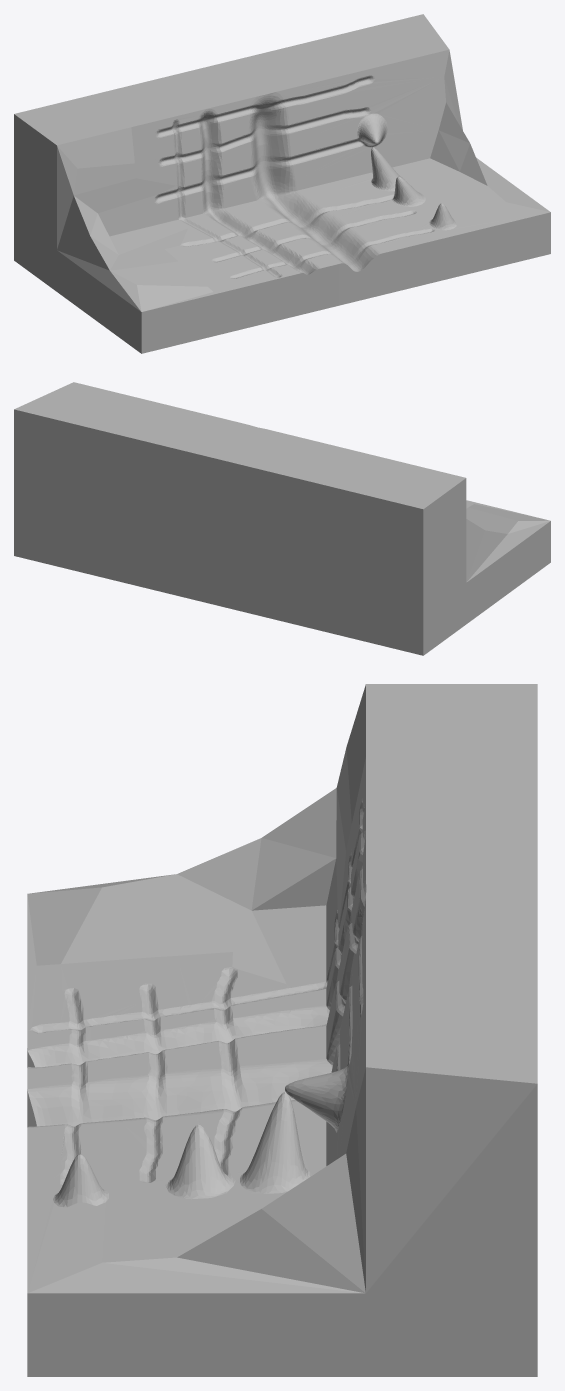
Rendered from superficie.obj.
3 renders of one model, top to bottom at view 1: azimuth 30°, elevation 25°; view 2: azimuth 150°, elevation 25°; view 3: azimuth 270°, elevation 25°, orthographic. The views are drawn at different scales.
Visible parts, largest first — view 1: Cube; view 2: Cube; view 3: Cube.
Part boxes in pixels (<box>): Cube: <box>14,14,550,353</box>; Cube: <box>14,382,550,655</box>; Cube: <box>27,684,537,1376</box>.
Bounding box in the file's own units: 29.63 × 10.14 × 15.99.
1 material, 1 textured.
